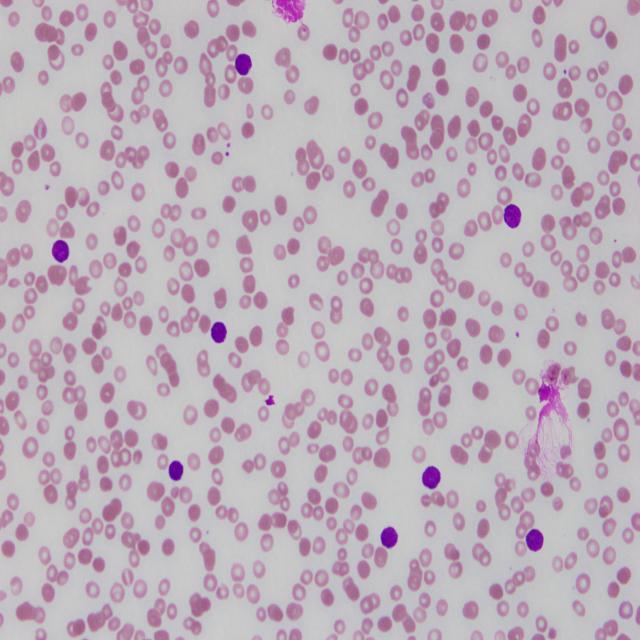cell: (526, 528, 544, 552), (504, 203, 521, 228), (422, 467, 441, 488), (51, 240, 69, 262), (380, 527, 398, 548), (235, 53, 251, 75), (211, 322, 226, 343), (169, 460, 184, 480)
